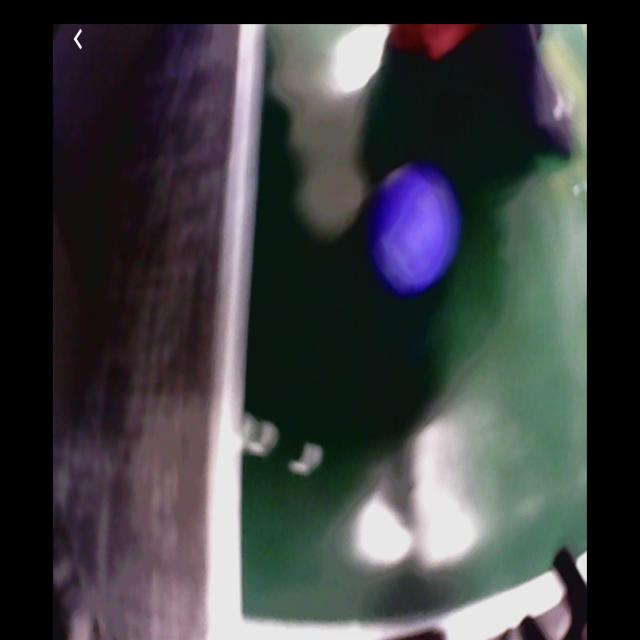ball: (372, 162, 462, 300)
